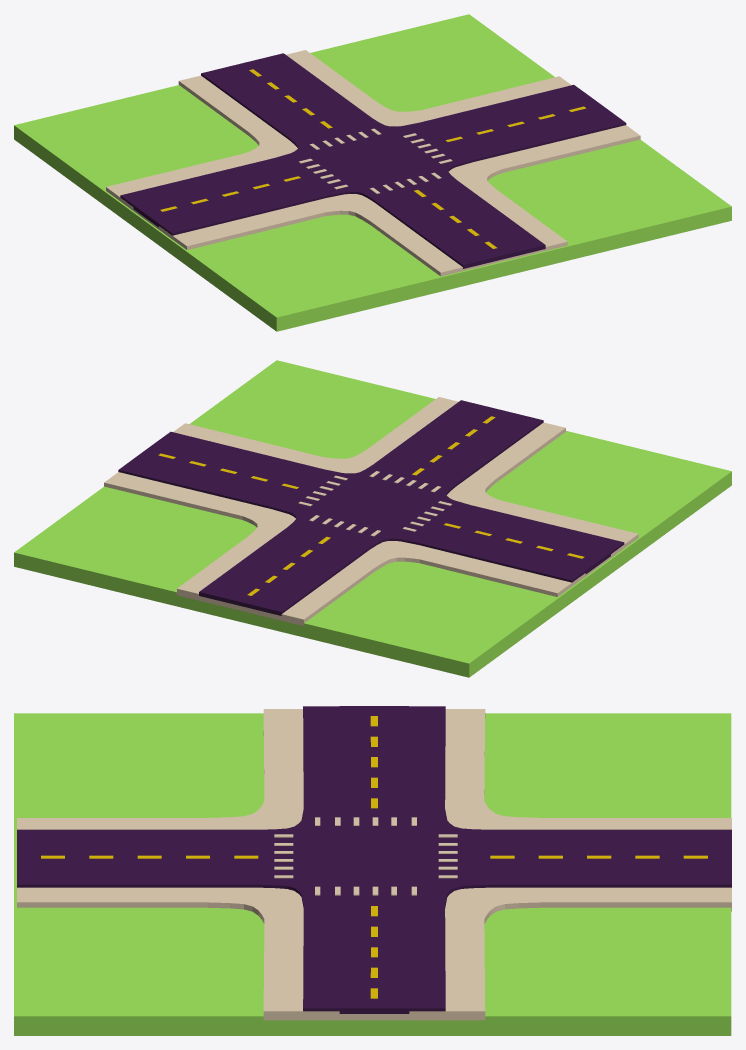
The model's file is map new.fbx.
The picture shows the model from 3 angles, top to bottom: view 1: azimuth 30°, elevation 25°; view 2: azimuth 150°, elevation 25°; view 3: azimuth 270°, elevation 25°; orthographic projection. The views are drawn at different scales.
Visible parts, largest first — view 1: Plane.007; view 2: Plane.007; view 3: Plane.007.
Part boxes in pixels (box(x1,y1,x2,y2)): Plane.007: box(14, 14, 731, 331); Plane.007: box(14, 360, 731, 677); Plane.007: box(14, 706, 731, 1035).
Size of the model in its own units: 75.04 by 75.07 by 3.27.
